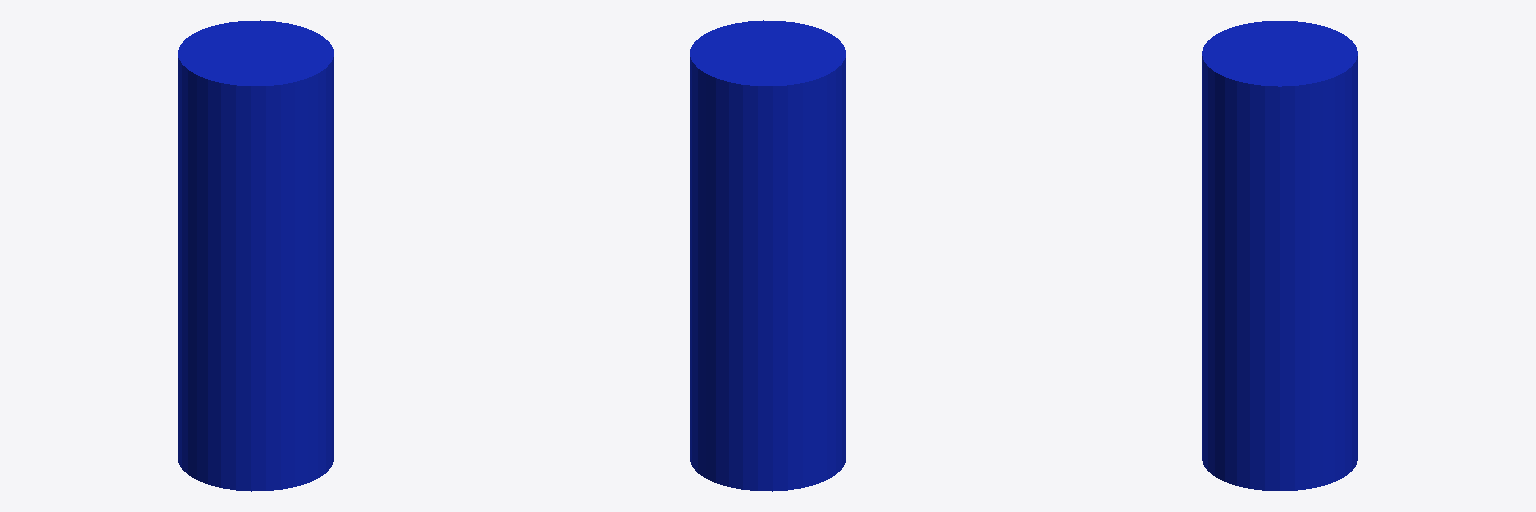
URDF robot description (bottle_mybottle_heavy):
<?xml version="1.0" ?>
<robot name="bottle_mybottle_heavy">
    <link name="bottle_heavy_link">
        <inertial>
            <!-- CoM = link origin = 4 cm below geometric centre (nails at bottom) -->
            <origin rpy="0 0 0" xyz="0.0 0.0 0.0"/>
            <mass value="2.0"/>
            <!-- Inertia about CoM (which is 4 cm below geometric centre):
                 d = 0.04 m  (parallel-axis shift along cylinder axis)
                 Ixx_CoM = Ixx_gc - M*d² = 0.007279 - 2.0*0.0016 = 0.003879
                 Izz unchanged (shift is along rotation axis) = 0.001225 -->
            <inertia ixx="0.003879" ixy="0.0" ixz="0.0"
                     iyy="0.003879" iyz="0.0"
                     izz="0.001225"/>
        </inertial>
        <visual>
            <!-- Geometric centre is 4 cm "above" CoM in local -Z (toward gripper) -->
            <origin rpy="0 0 0" xyz="0 0 -0.04"/>
            <geometry>
                <cylinder radius="0.035" length="0.20"/>
            </geometry>
            <material name="DarkBlue">
                <color rgba="0.1 0.2 0.8 0.85"/>
            </material>
        </visual>
        <collision>
            <origin rpy="0 0 0" xyz="0 0 -0.04"/>
            <geometry>
                <cylinder radius="0.035" length="0.20"/>
            </geometry>
        </collision>
    </link>
</robot>

--- Facts derived from the render (not from the file) ---
Views: 3 orthographic renders of the robot side by side, from view 1: azimuth 30°, elevation 25°; view 2: azimuth 150°, elevation 25°; view 3: azimuth 270°, elevation 25°.
Robot: bottle_mybottle_heavy — 1 links, 0 joints (none); root link bottle_heavy_link; default pose: all joints at 0.
Visible links, largest first — view 1: bottle_heavy_link; view 2: bottle_heavy_link; view 3: bottle_heavy_link.
Link boxes in pixels (x1,y1,x2,y2): bottle_heavy_link: [178, 20, 333, 491]; bottle_heavy_link: [690, 20, 845, 491]; bottle_heavy_link: [1202, 21, 1357, 490].
Bounding box of the posed robot: 0.07 × 0.07 × 0.2 m (x, y, z).
Geometry: primitives only (box / cylinder / sphere), no mesh files.
